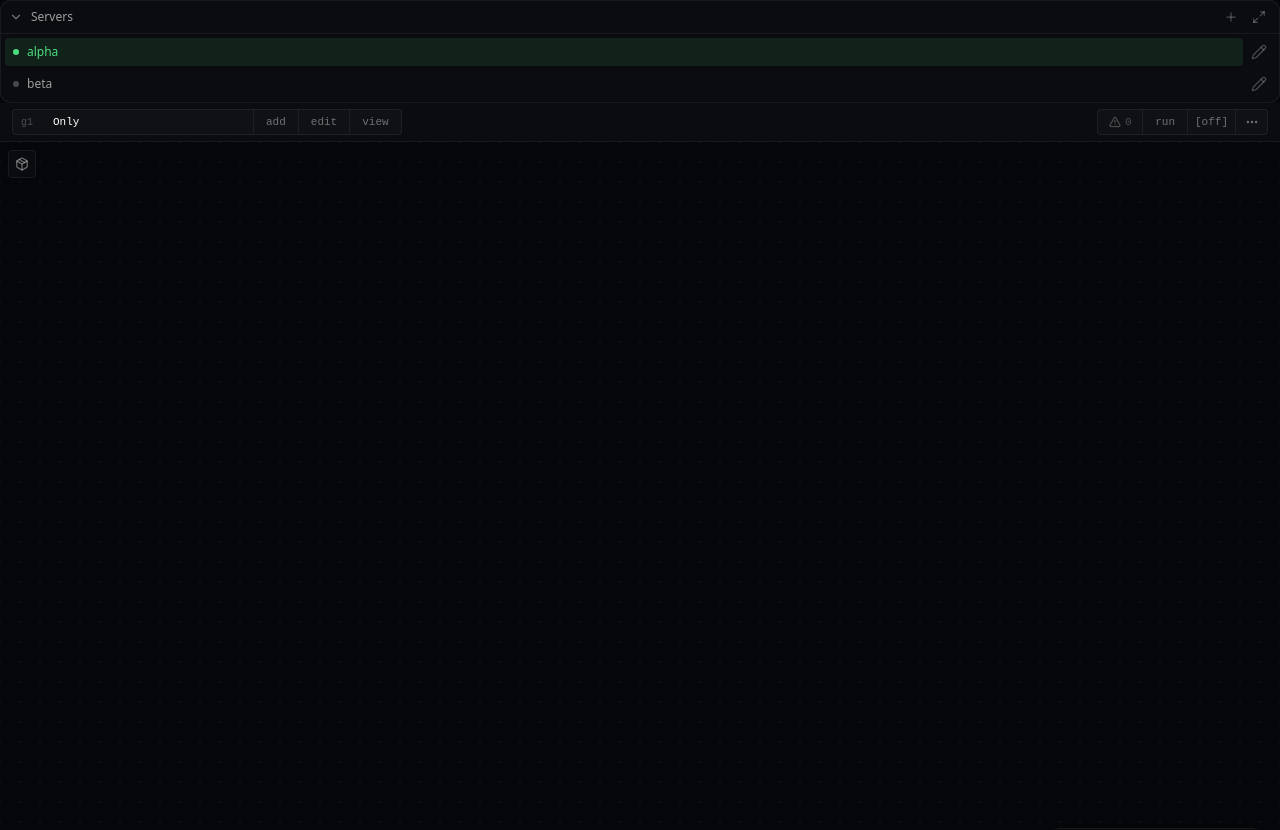
Scenario: switching server from the sidebar with the scheduler editor maximized › leaves the active server and the edits alone on cancel
Click the button named "Graph actions".
click(1252, 122)  # box [1236, 110, 1267, 134]
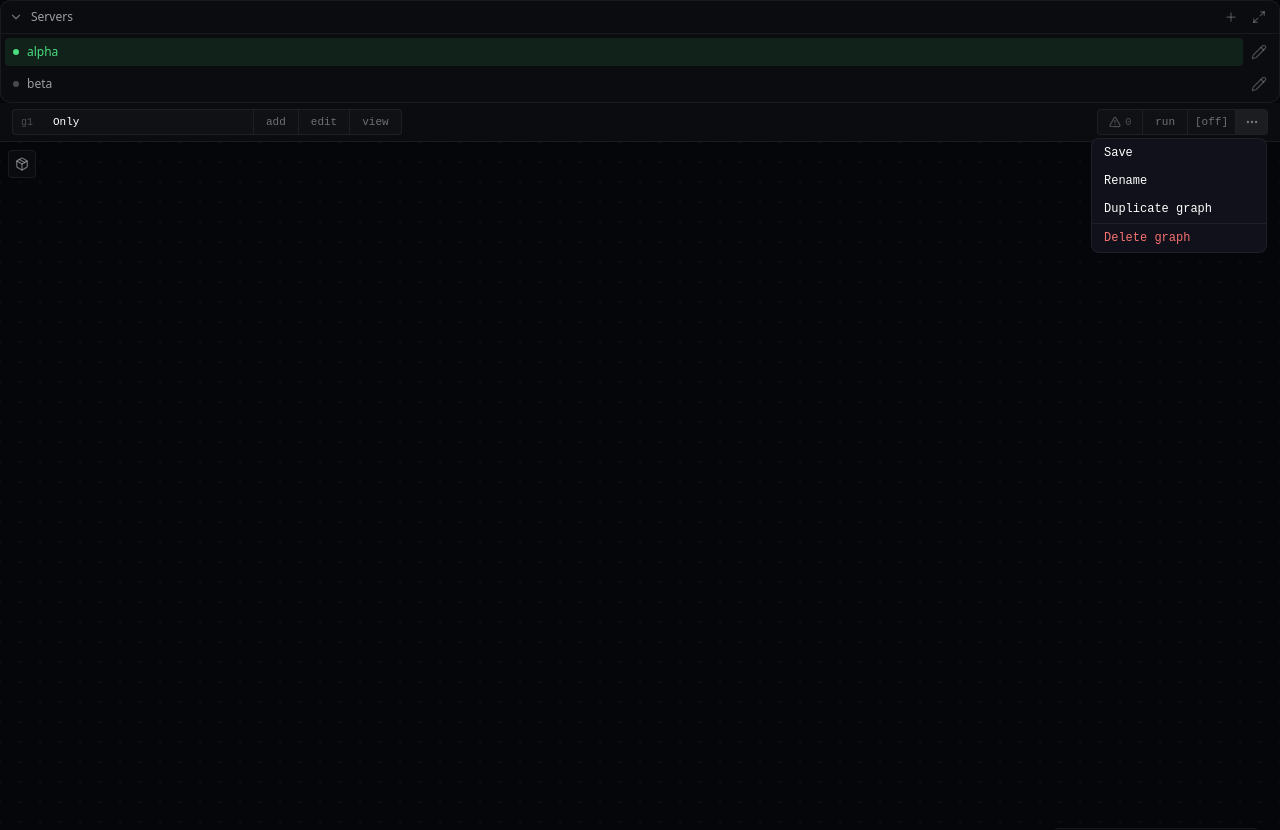
Click the button "Rename".
click(1179, 181)  # box [1092, 167, 1266, 195]
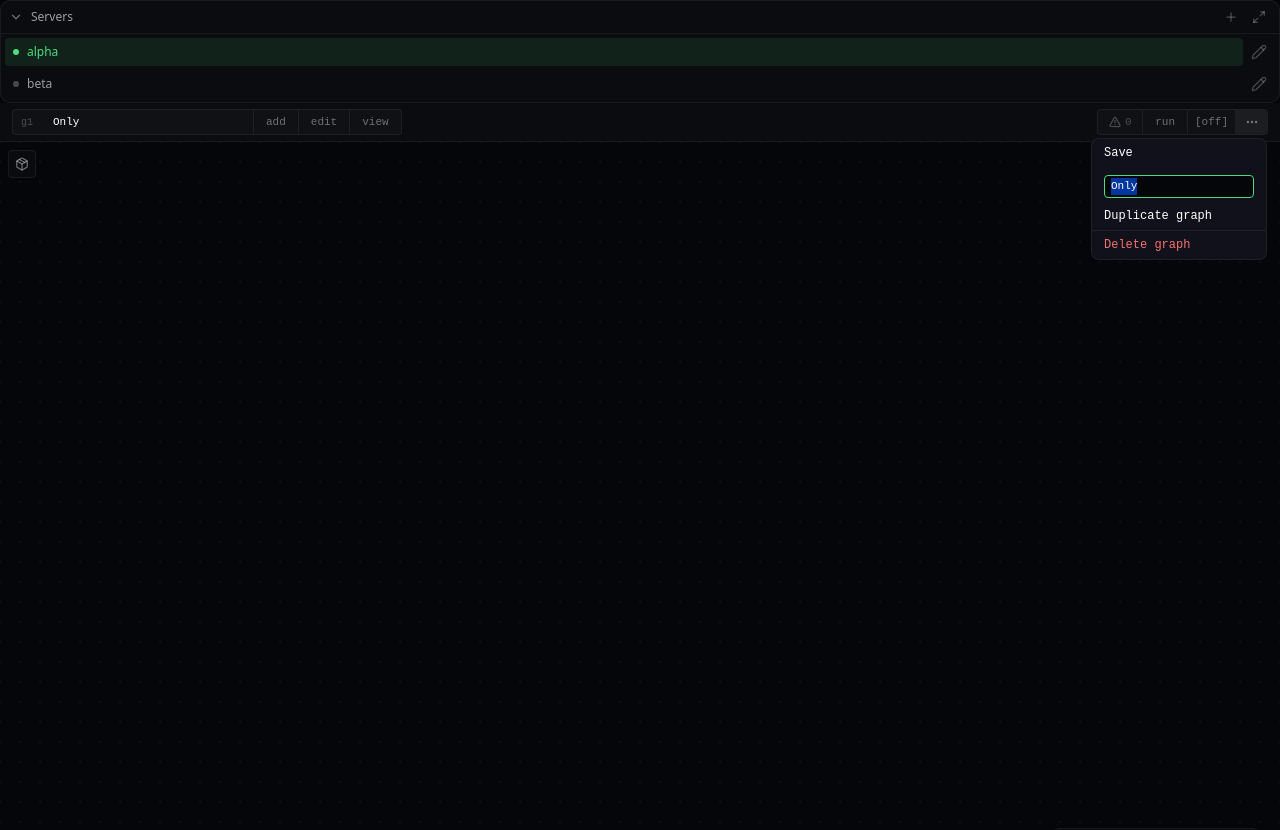
Replace the text in the field showing "Only" with "Only, edited" at (1179, 186), box [1104, 175, 1254, 198]
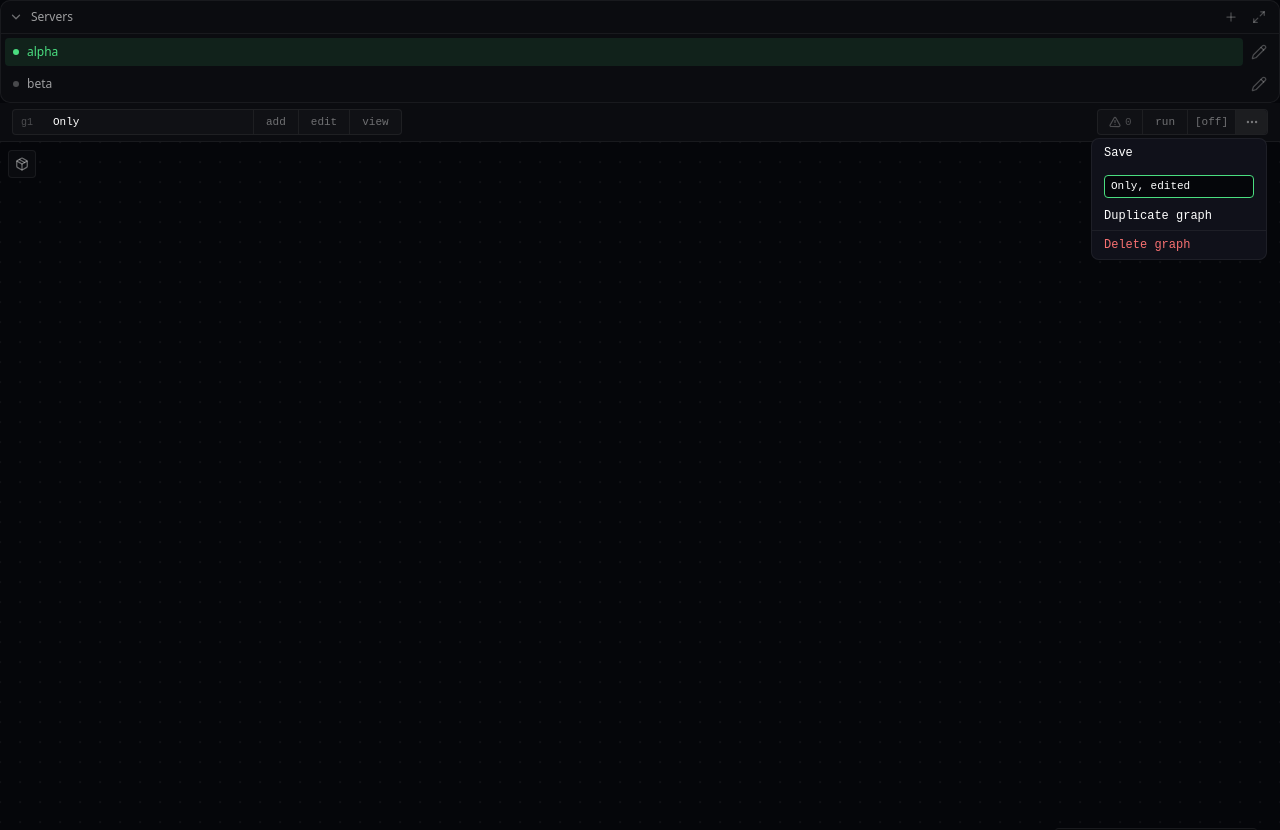
Press Enter in the field showing "Only", box [1104, 175, 1254, 198]
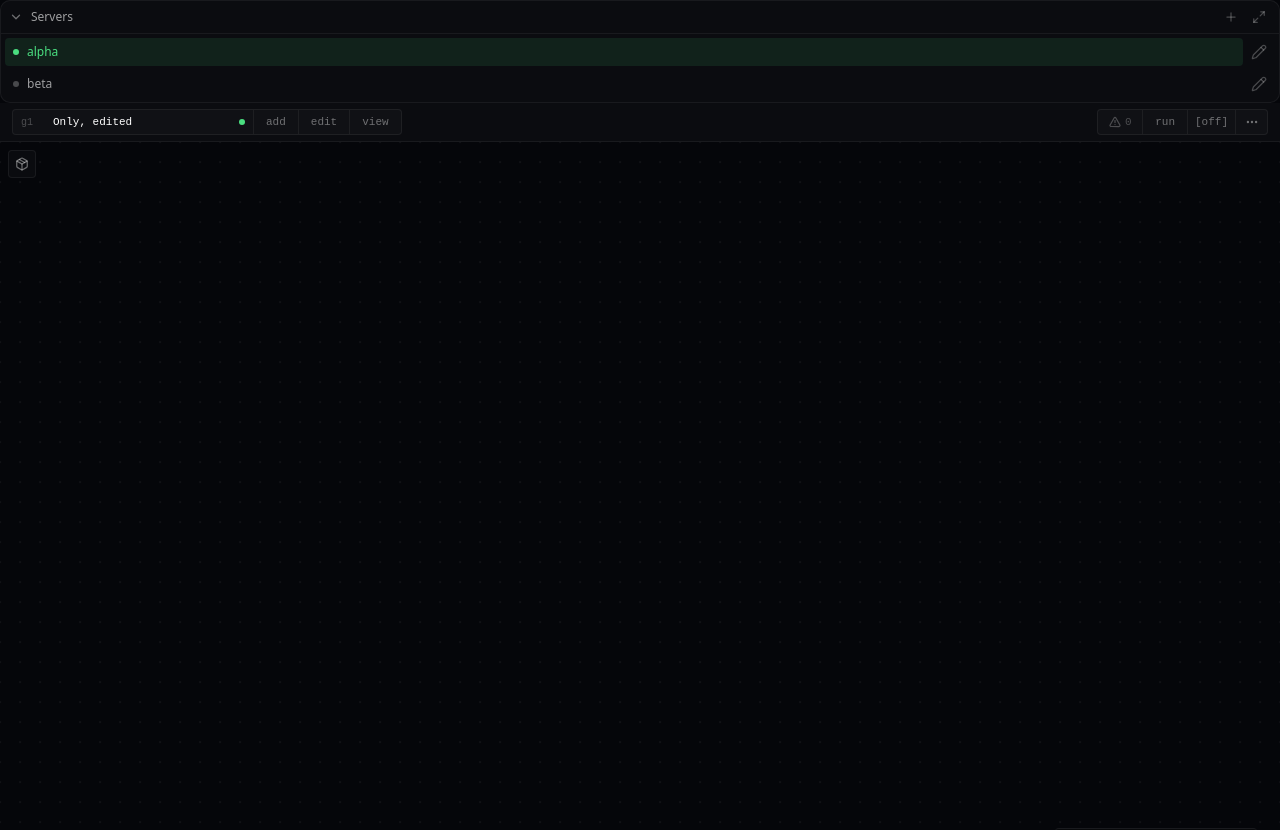
Result: the picture named "Unsaved changes" is shown at [239, 119, 245, 125]
Click the button "beta".
click(16, 84)  # box [5, 70, 1243, 98]
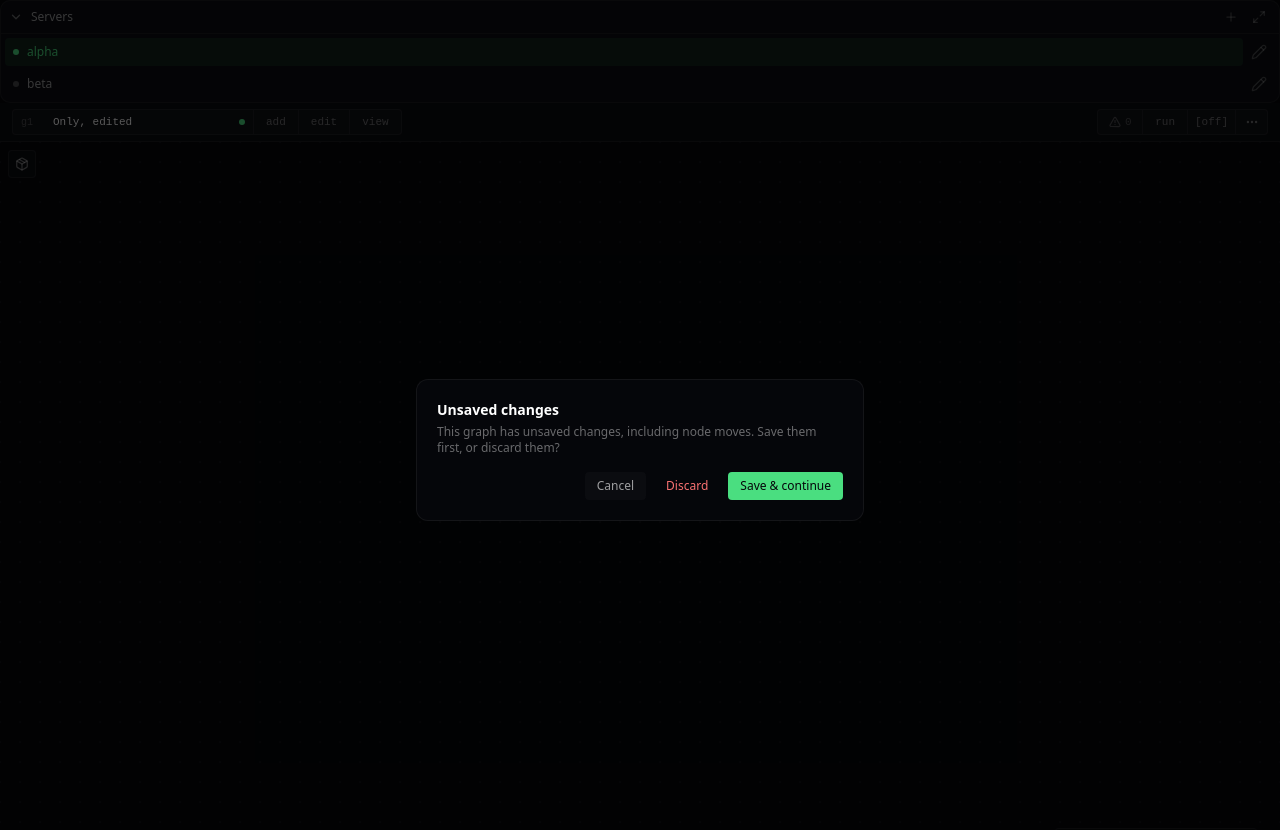
Click the button "Cancel".
click(616, 486)  # box [585, 472, 646, 500]
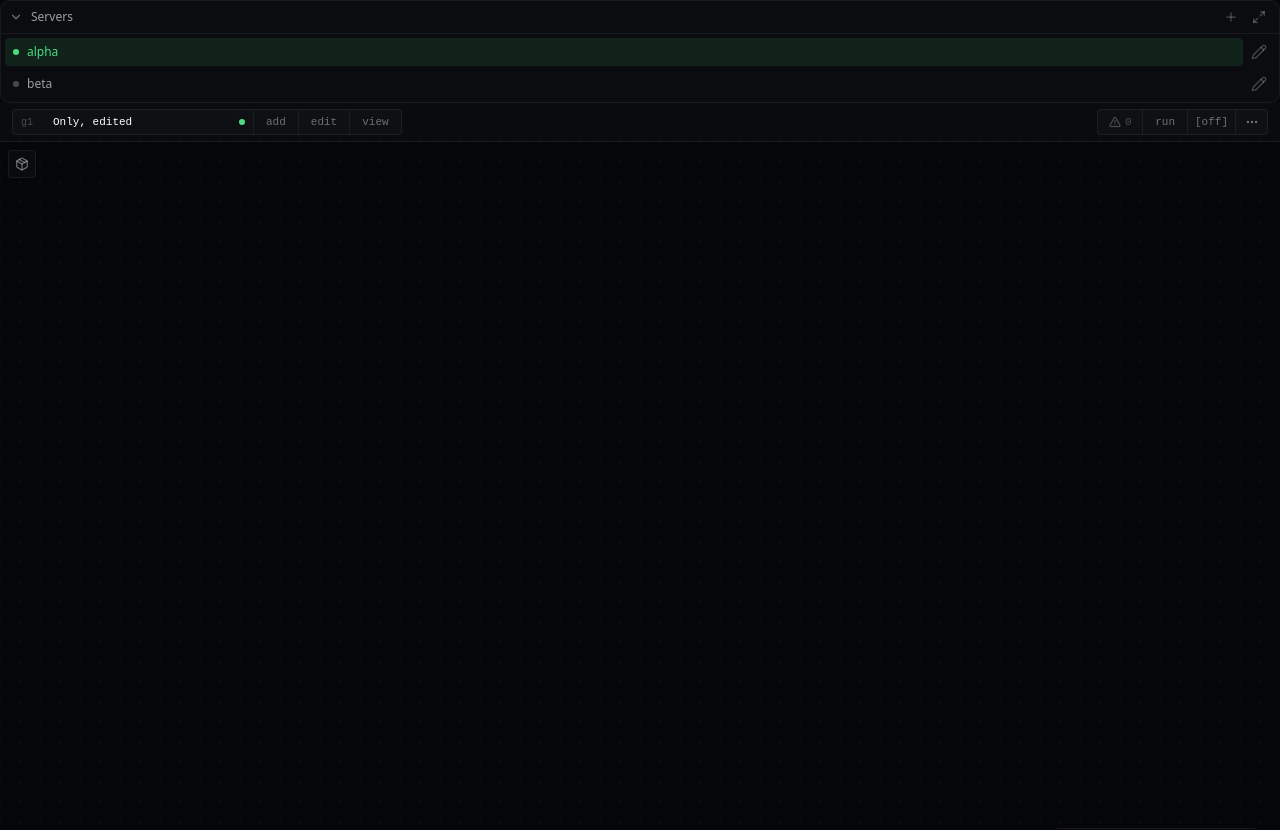
Expected: the text "alpha" is shown, [27, 44, 58, 60]
Result: the picture named "Unsaved changes" is shown at [239, 119, 245, 125]
Result: the heading "Unsaved changes" is gone
